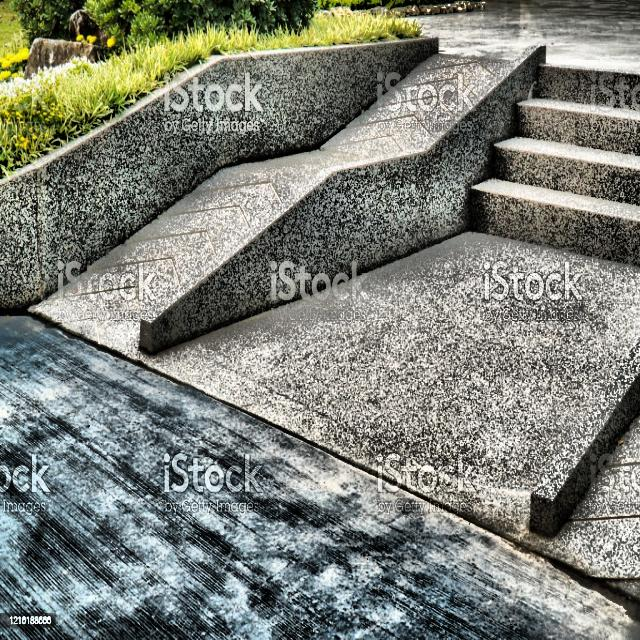escada: (472, 64, 640, 269)
